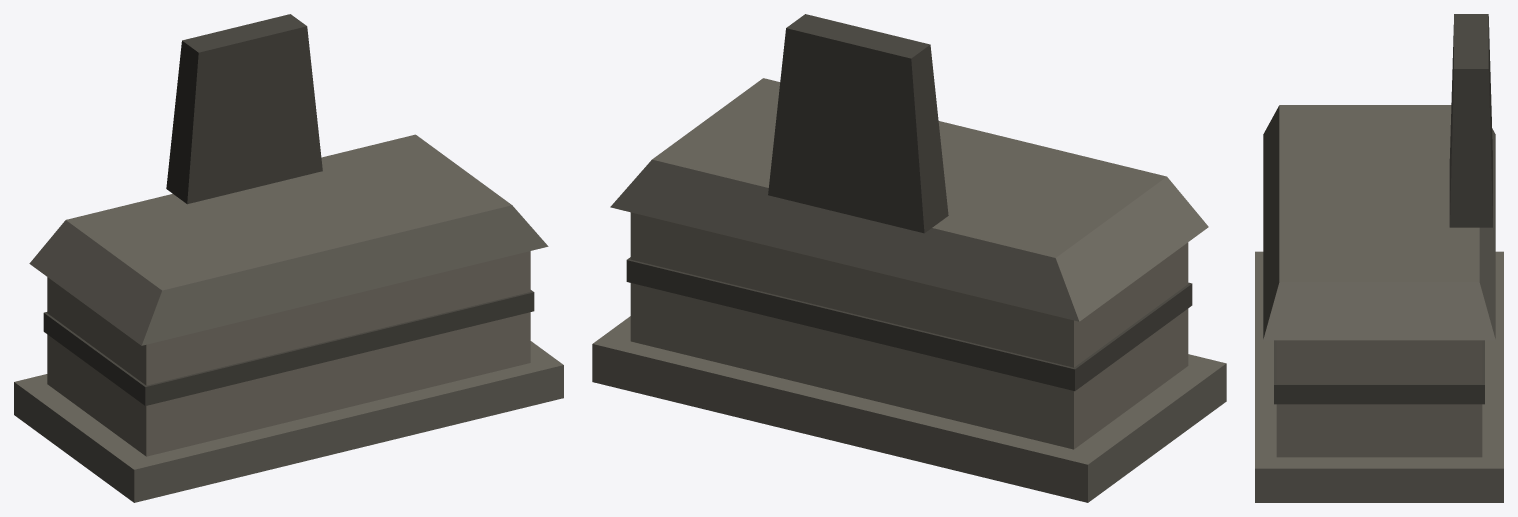
Rendered from sarcophagus.glb.
The picture shows the model from 3 angles, left to right: view 1: azimuth 30°, elevation 25°; view 2: azimuth 150°, elevation 25°; view 3: azimuth 270°, elevation 25°; orthographic projection. The views are drawn at different scales.
Parts seen in each view (by area): view 1: sarcophagus; view 2: sarcophagus; view 3: sarcophagus.
Boxes of the visible parts, left/top/right/bottom form: sarcophagus: left=14, top=14, right=563, bottom=502; sarcophagus: left=592, top=14, right=1226, bottom=502; sarcophagus: left=1255, top=14, right=1503, bottom=502.
Bounding box in the file's own units: 1.9 × 1.44 × 0.92.
1 material, 1 textured.
